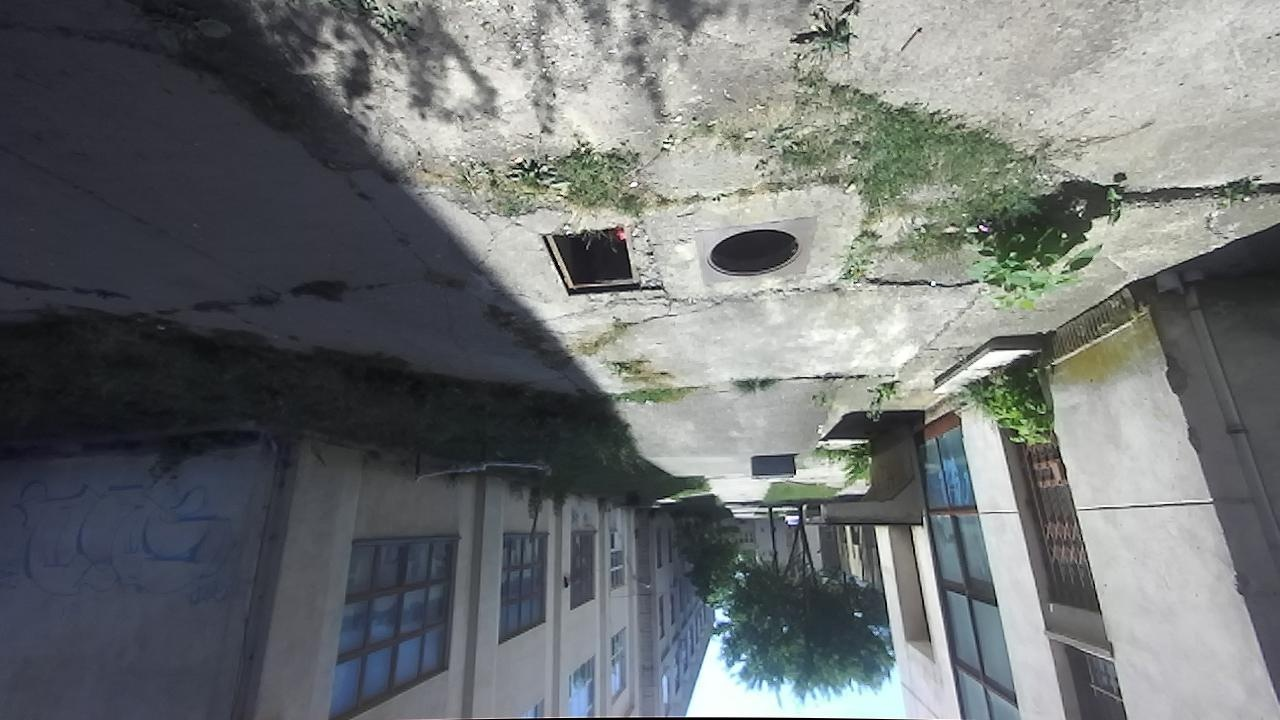drain: (537, 230, 663, 291), (701, 226, 807, 276)
